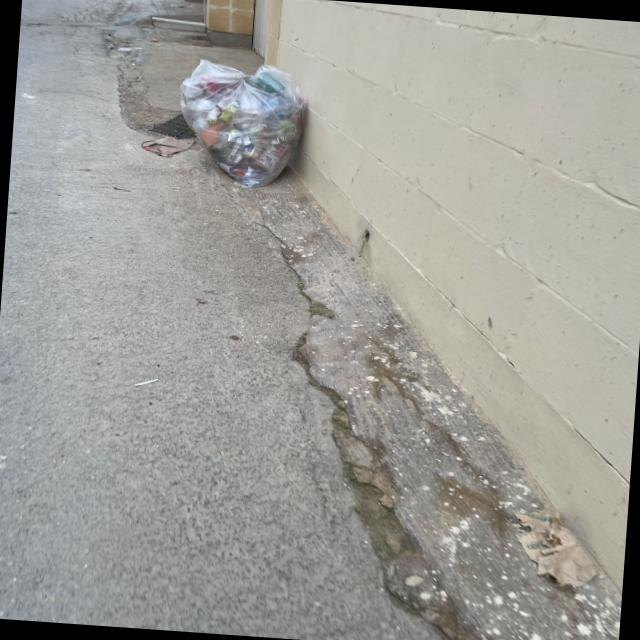grey_bag: (165, 52, 312, 190)
